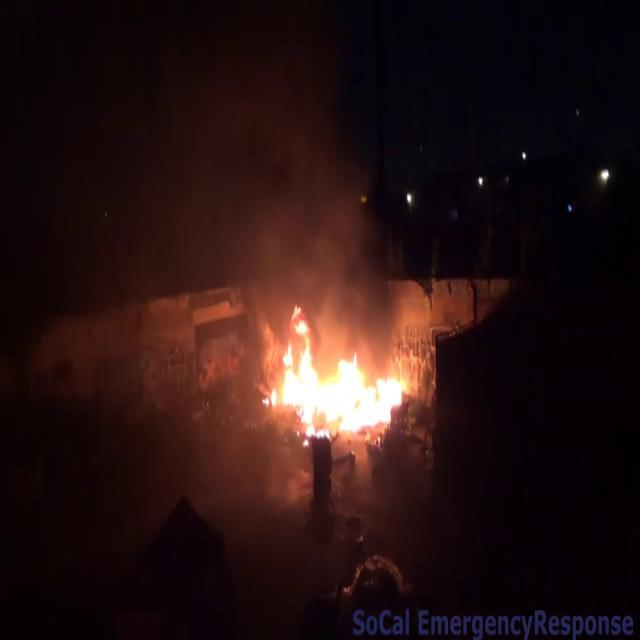Fire: (256, 318, 436, 452)
Smoke: (116, 3, 414, 345)
